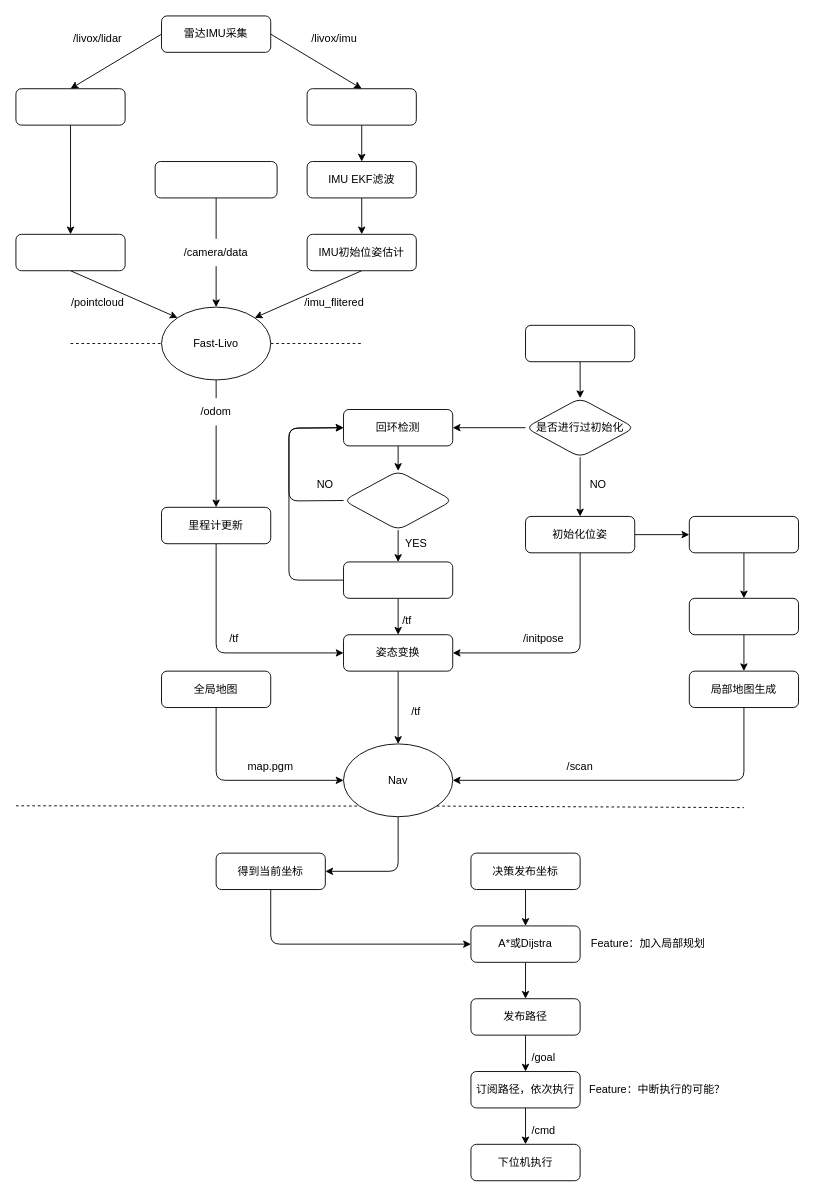
This 814x1197 diagram has some shape labels left out. Each missing label, with the centre of its shape:
ICP配准: point (743, 534)
ICP重定位: point (398, 579)
ICP重定位,启动！: point (580, 343)
IMU数据: point (361, 106)
多目相机采集: point (215, 179)
激光雷达数据: point (70, 106)
点云特征提取: point (70, 252)
该位置是否经过？: point (398, 500)
障碍物分割: point (743, 616)
